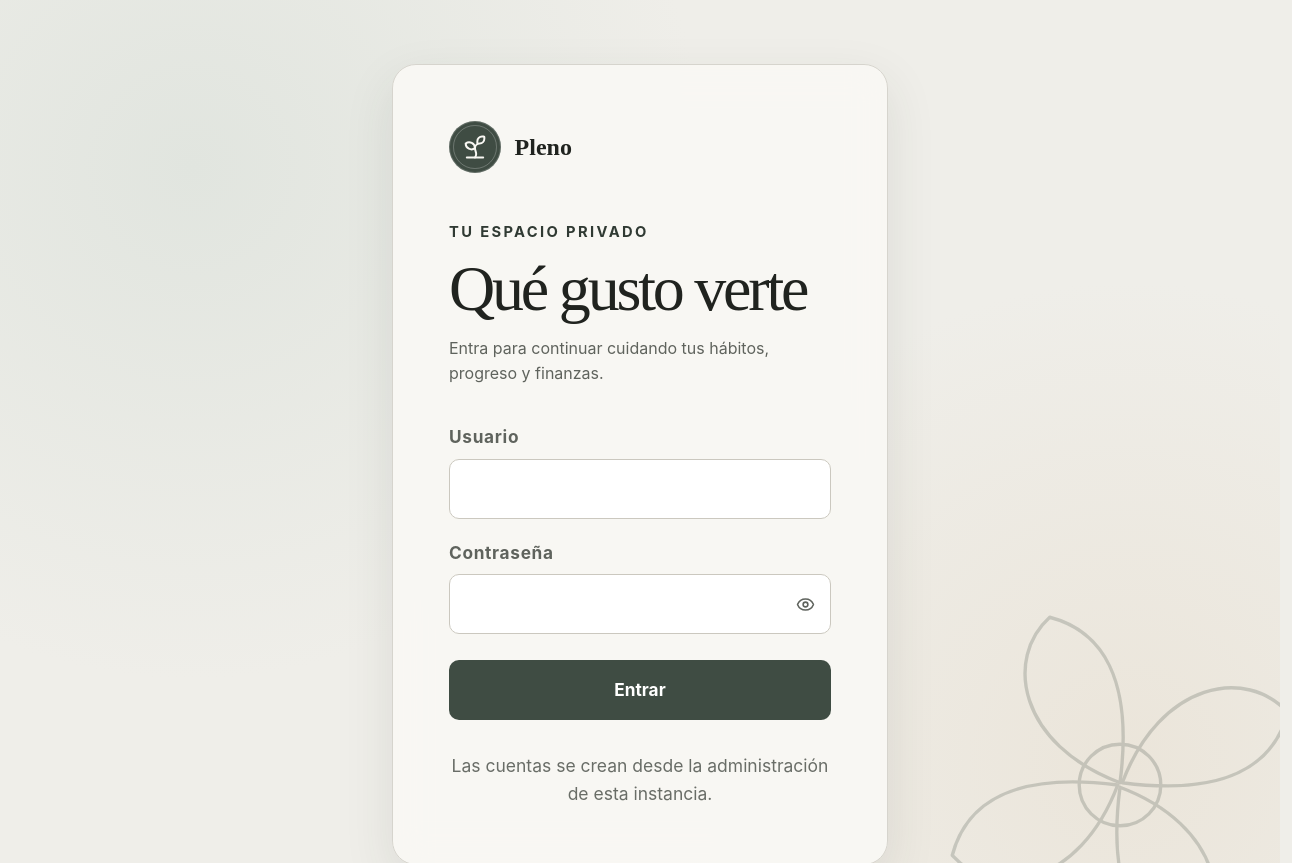
it: sesión y rutas privadas › permite entrar y fuerza el cambio de una clave temporal
Type "admin" into the field labelled "Usuario".
click(640, 488); type("admin")  # box left=449, top=458, right=831, bottom=518
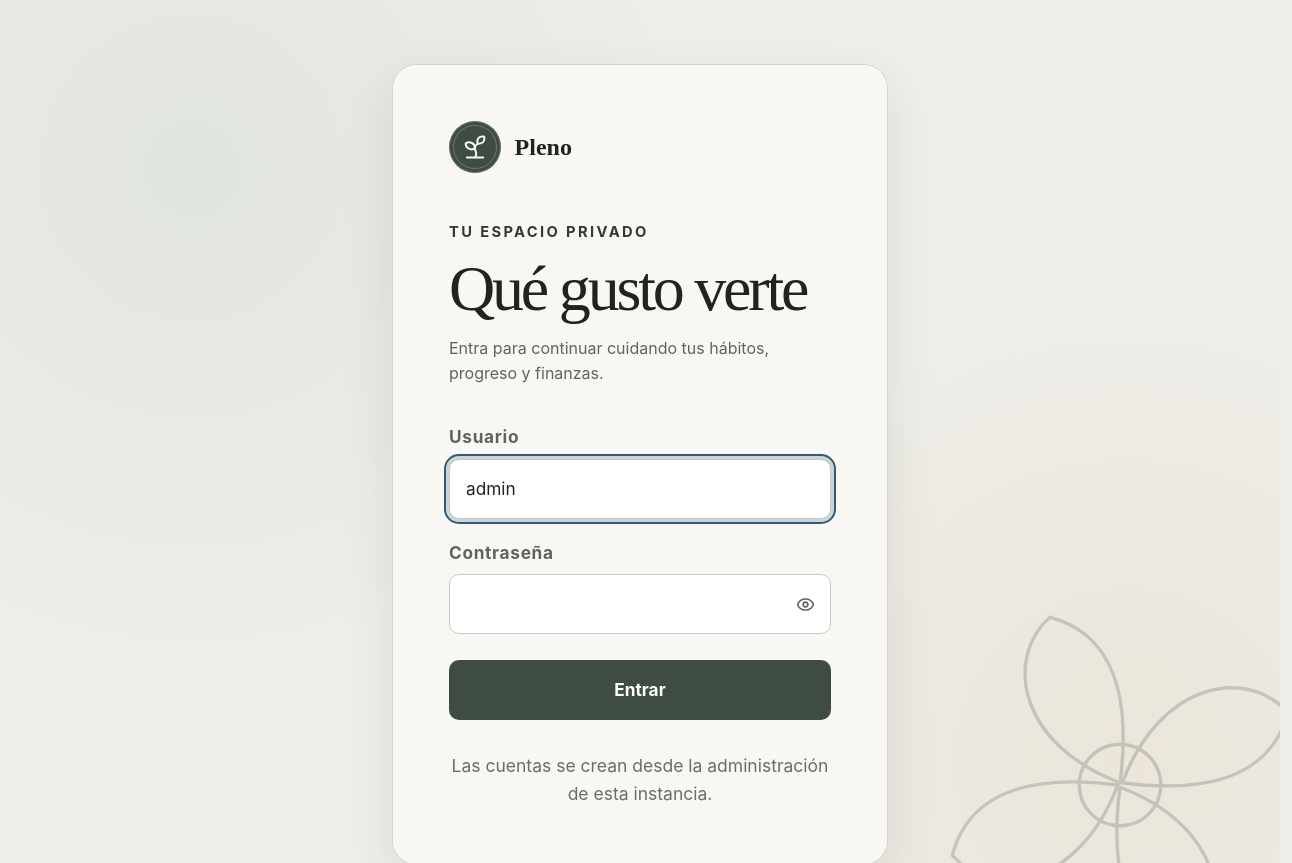
Type "temporal-segura" into the password field labelled "Contraseña".
click(640, 604); type("temporal-segura")  # box left=449, top=574, right=831, bottom=634
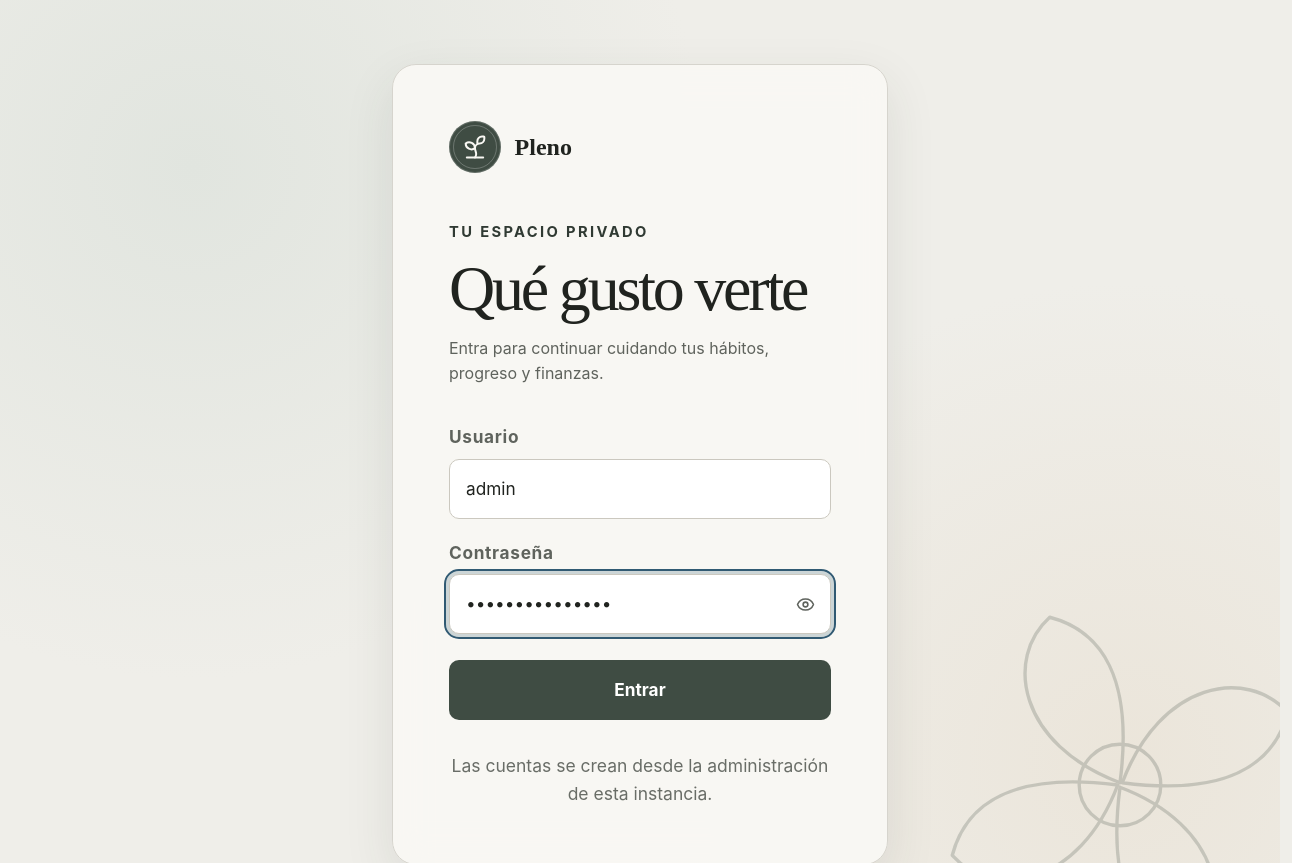
Click the button named "Mostrar contraseña".
click(805, 604)  # box left=785, top=584, right=825, bottom=624
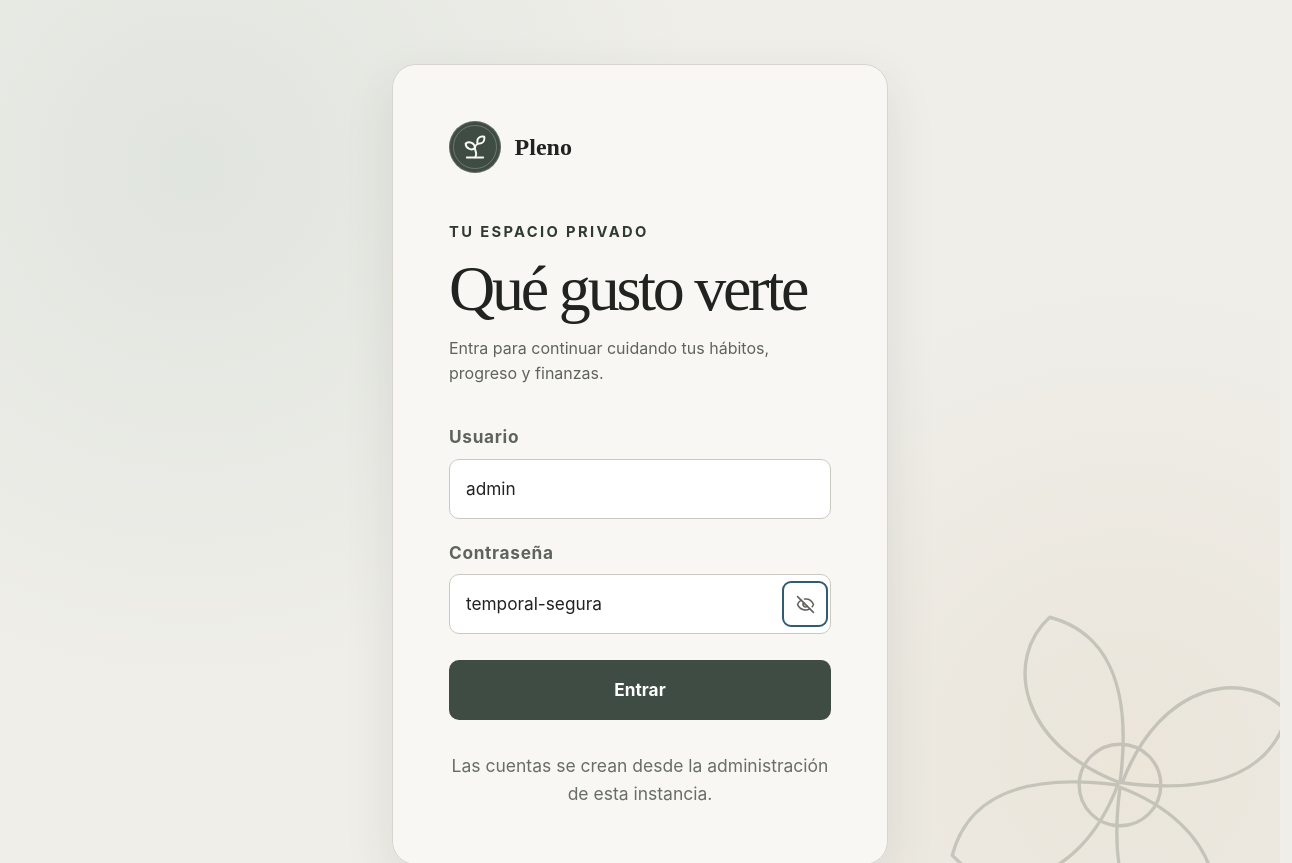
Now the field labelled "Contraseña" shows its text, box left=449, top=574, right=831, bottom=634
Click the button named "Ocultar contraseña".
click(805, 604)  # box left=785, top=584, right=825, bottom=624
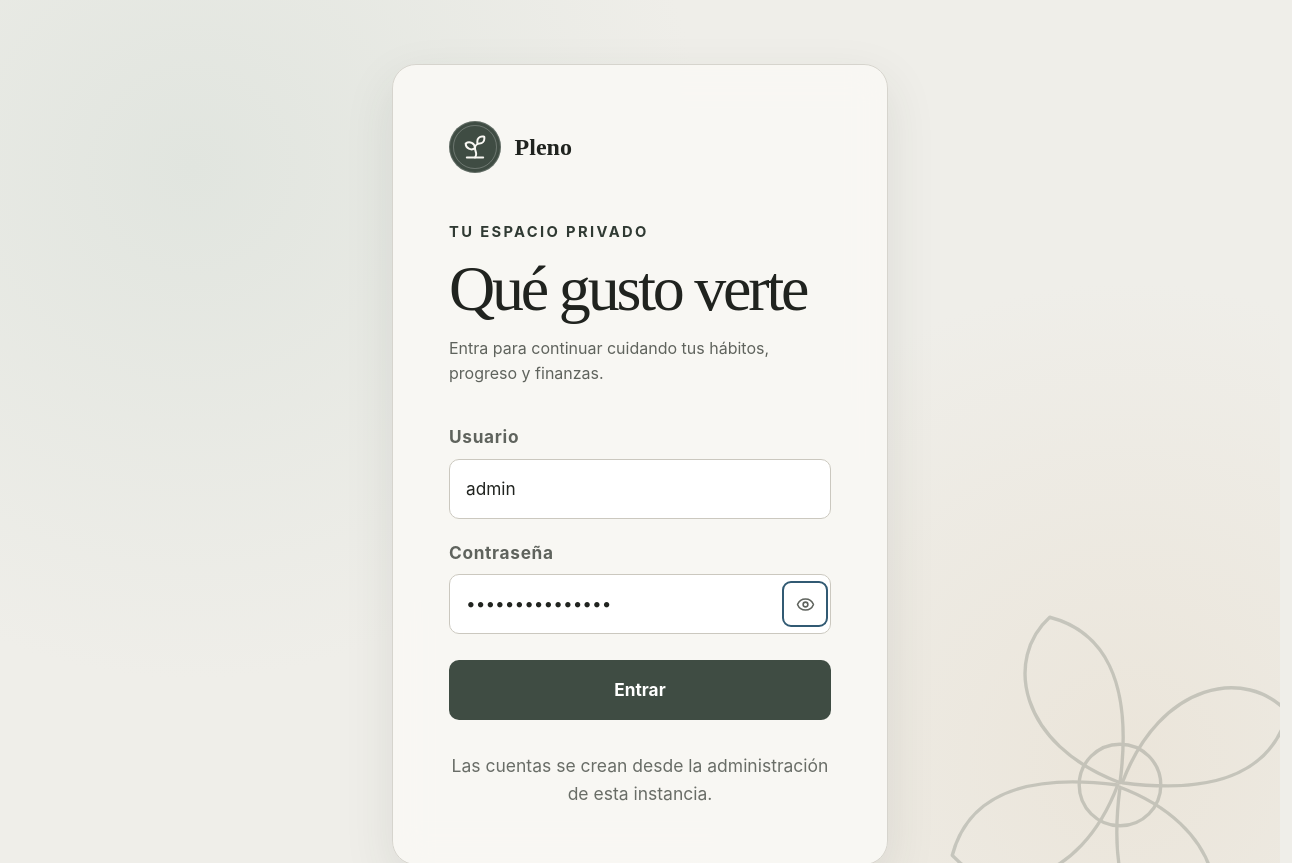
Now the password field labelled "Contraseña" hides its text, box left=449, top=574, right=831, bottom=634
Click the button "Entrar".
click(640, 690)  # box left=449, top=660, right=831, bottom=720
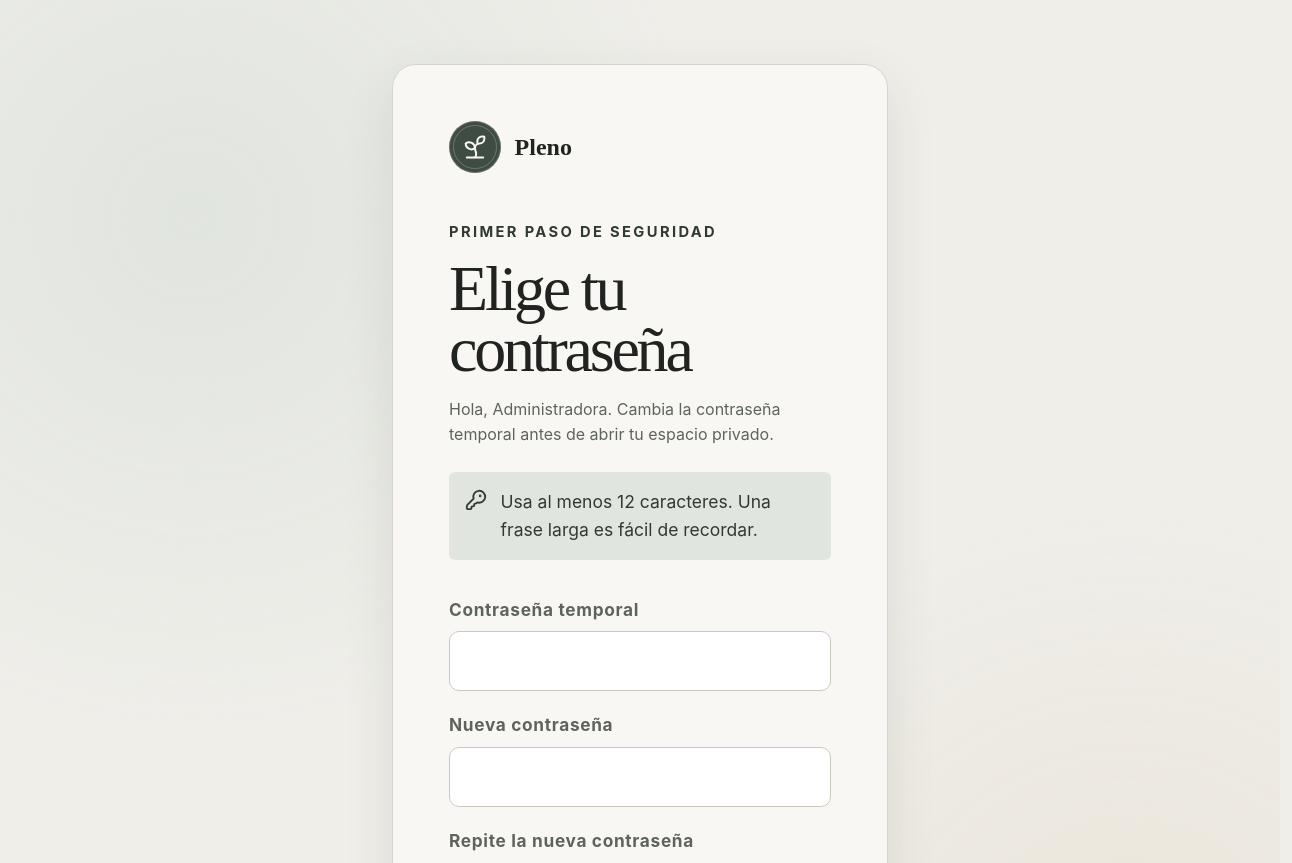
Now the heading "Elige tu contraseña" is shown, box left=449, top=253, right=691, bottom=385
